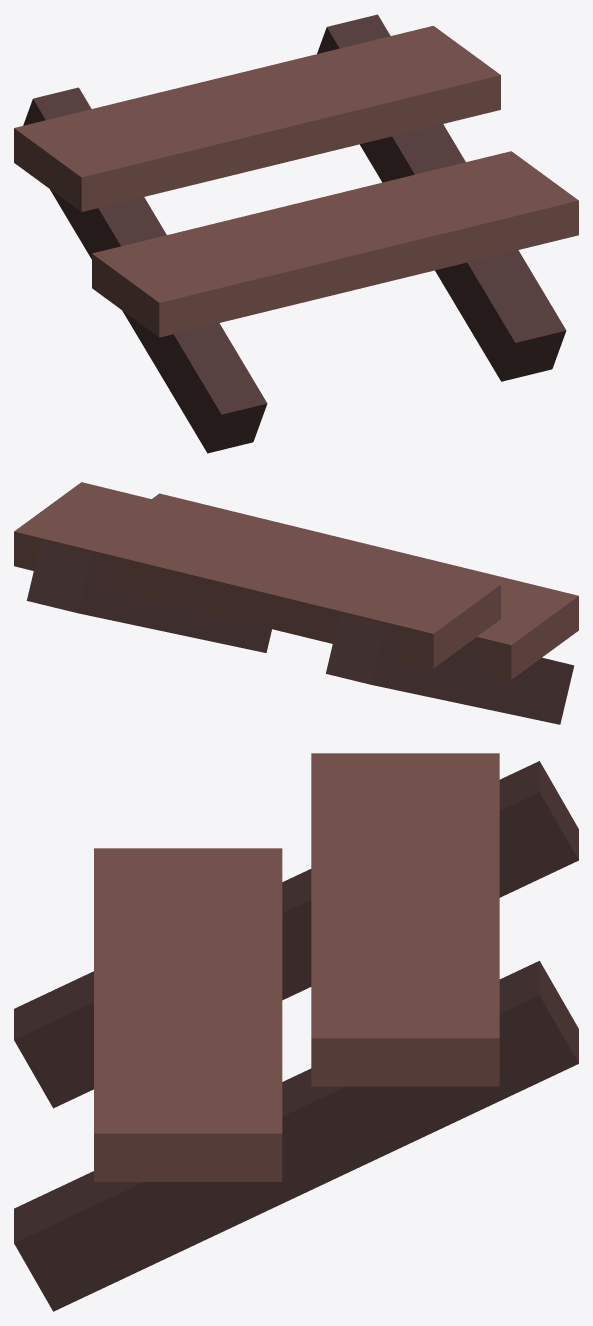
The model's file is LightRoseWoodStepsSmallSteps1.fbx.
The picture shows the model from 3 angles, top to bottom: view 1: azimuth 30°, elevation 25°; view 2: azimuth 150°, elevation 25°; view 3: azimuth 270°, elevation 25°; orthographic projection. The views are drawn at different scales.
Visible parts, largest first — view 1: LightRoseWoodStepsSmallSteps1; view 2: LightRoseWoodStepsSmallSteps1; view 3: LightRoseWoodStepsSmallSteps1.
Part boxes in pixels (box(x1,y1,x2,y2)): LightRoseWoodStepsSmallSteps1: box(14, 14, 578, 453); LightRoseWoodStepsSmallSteps1: box(14, 482, 578, 724); LightRoseWoodStepsSmallSteps1: box(14, 753, 578, 1311).
Bounding box in the file's own units: 243 × 126 × 204.
